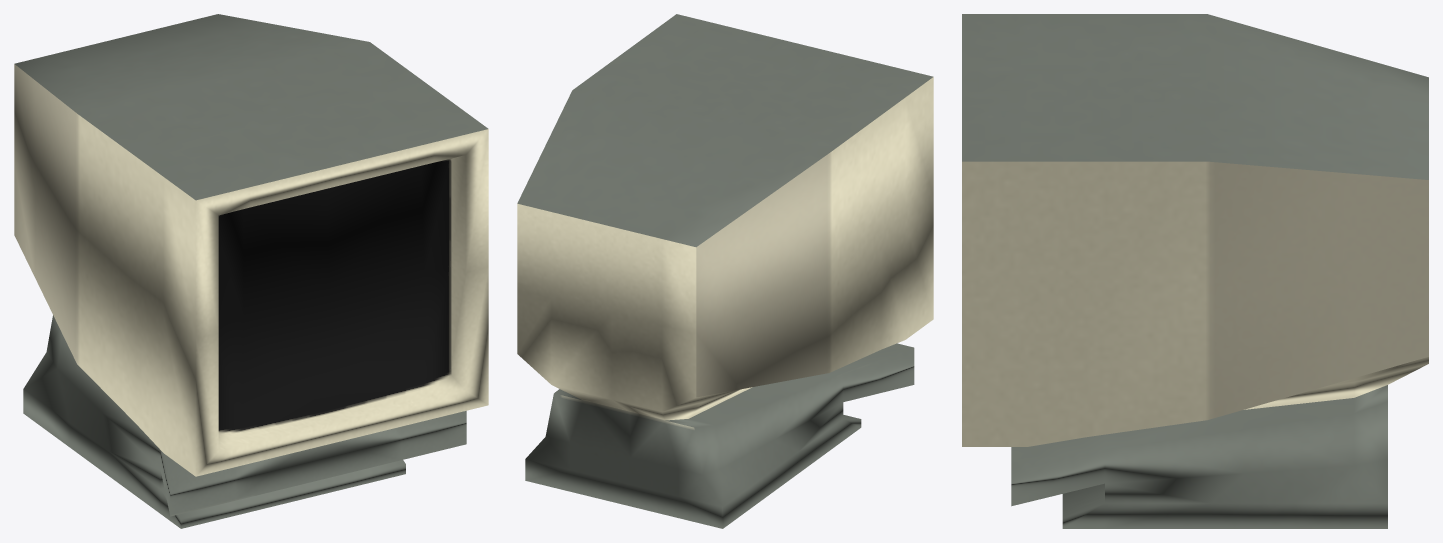
The model's file is CRT FunnyModel.fbx.
3 views of the same model, side by side, from view 1: azimuth 30°, elevation 25°; view 2: azimuth 150°, elevation 25°; view 3: azimuth 270°, elevation 25° (orthographic). The views are drawn at different scales.
Visible parts, largest first — view 1: Cube.001; view 2: Cube.001; view 3: Cube.001.
Boxes of the visible parts, x1,y1,x2,y2 form: Cube.001: (14, 14, 488, 528); Cube.001: (517, 14, 933, 528); Cube.001: (962, 14, 1428, 528).
Size of the model in its own units: 191 by 229 by 252.
